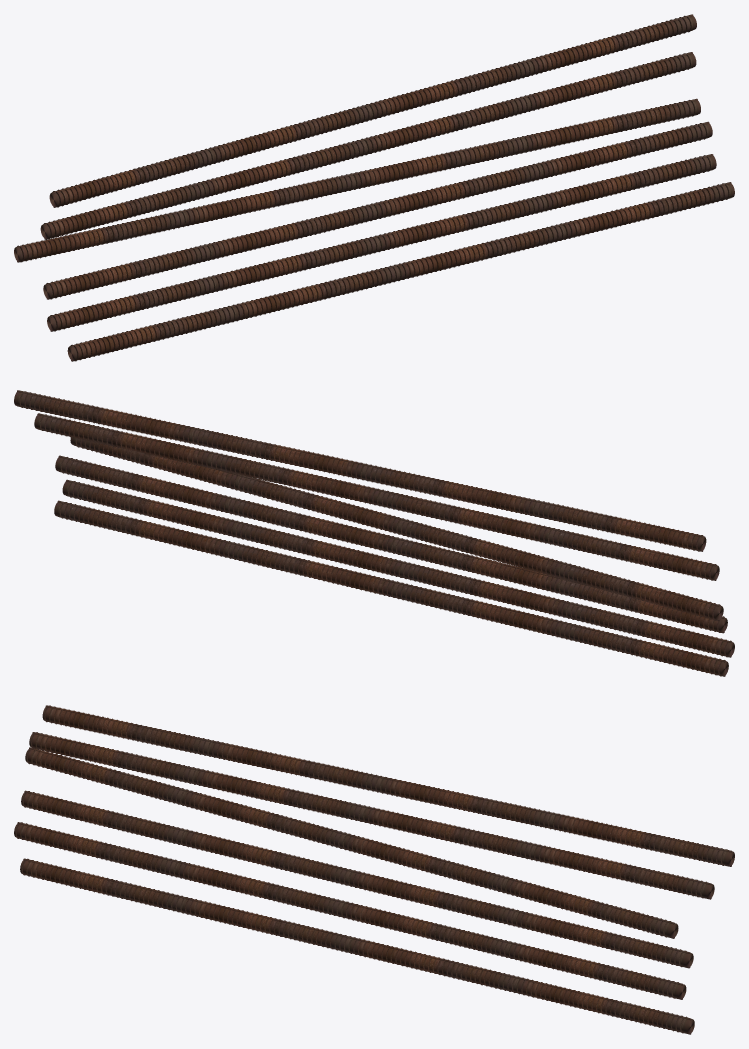
The model's file is EST-ACO-006_anim.glb.
3 renders of one model, top to bottom at view 1: azimuth 30°, elevation 25°; view 2: azimuth 150°, elevation 25°; view 3: azimuth 330°, elevation 25°, orthographic.
Parts seen in each view (by area): view 1: EST-ACO-006_anim3, EST-ACO-006_anim1, EST-ACO-006_anim2, EST-ACO-006_anim0, EST-ACO-006_anim4, EST-ACO-006_anim5; view 2: EST-ACO-006_anim5, EST-ACO-006_anim4, EST-ACO-006_anim0, EST-ACO-006_anim1, EST-ACO-006_anim2, EST-ACO-006_anim3; view 3: EST-ACO-006_anim5, EST-ACO-006_anim4, EST-ACO-006_anim0, EST-ACO-006_anim2, EST-ACO-006_anim1, EST-ACO-006_anim3.
Part boxes in pixels (<box>): EST-ACO-006_anim3: <box>14,98,700,262</box>; EST-ACO-006_anim1: <box>47,154,716,331</box>; EST-ACO-006_anim2: <box>43,121,712,299</box>; EST-ACO-006_anim0: <box>67,182,734,361</box>; EST-ACO-006_anim4: <box>40,52,696,239</box>; EST-ACO-006_anim5: <box>49,14,696,207</box>; EST-ACO-006_anim5: <box>14,390,706,551</box>; EST-ACO-006_anim4: <box>34,413,719,580</box>; EST-ACO-006_anim0: <box>54,500,728,676</box>; EST-ACO-006_anim1: <box>62,479,734,657</box>; EST-ACO-006_anim2: <box>55,455,727,633</box>; EST-ACO-006_anim3: <box>70,437,723,620</box>; EST-ACO-006_anim5: <box>42,705,734,866</box>; EST-ACO-006_anim4: <box>29,732,714,899</box>; EST-ACO-006_anim0: <box>20,858,694,1034</box>; EST-ACO-006_anim2: <box>21,790,693,968</box>; EST-ACO-006_anim1: <box>14,822,686,999</box>; EST-ACO-006_anim3: <box>25,747,678,938</box>.
Bounding box in the file's own units: 1.04 × 0.2224 × 0.1319.
1 material, 1 textured.
